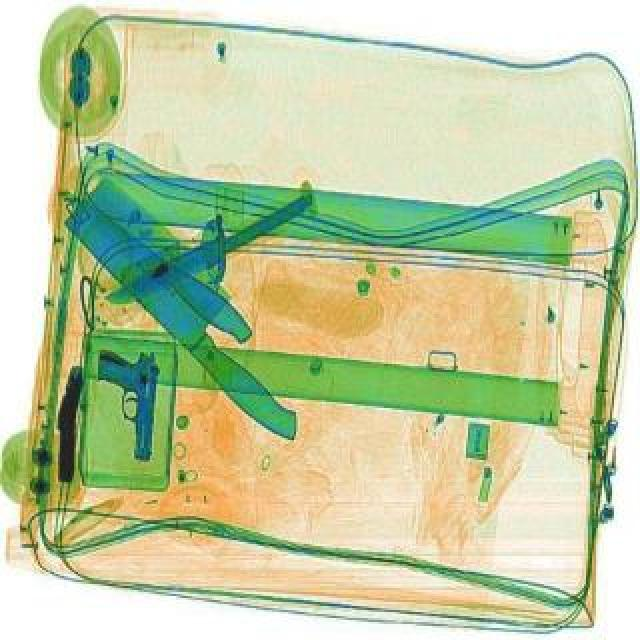gun: (90, 346, 162, 460), (52, 364, 84, 478)
knife: (48, 168, 340, 446), (56, 178, 260, 348), (100, 192, 316, 312)
